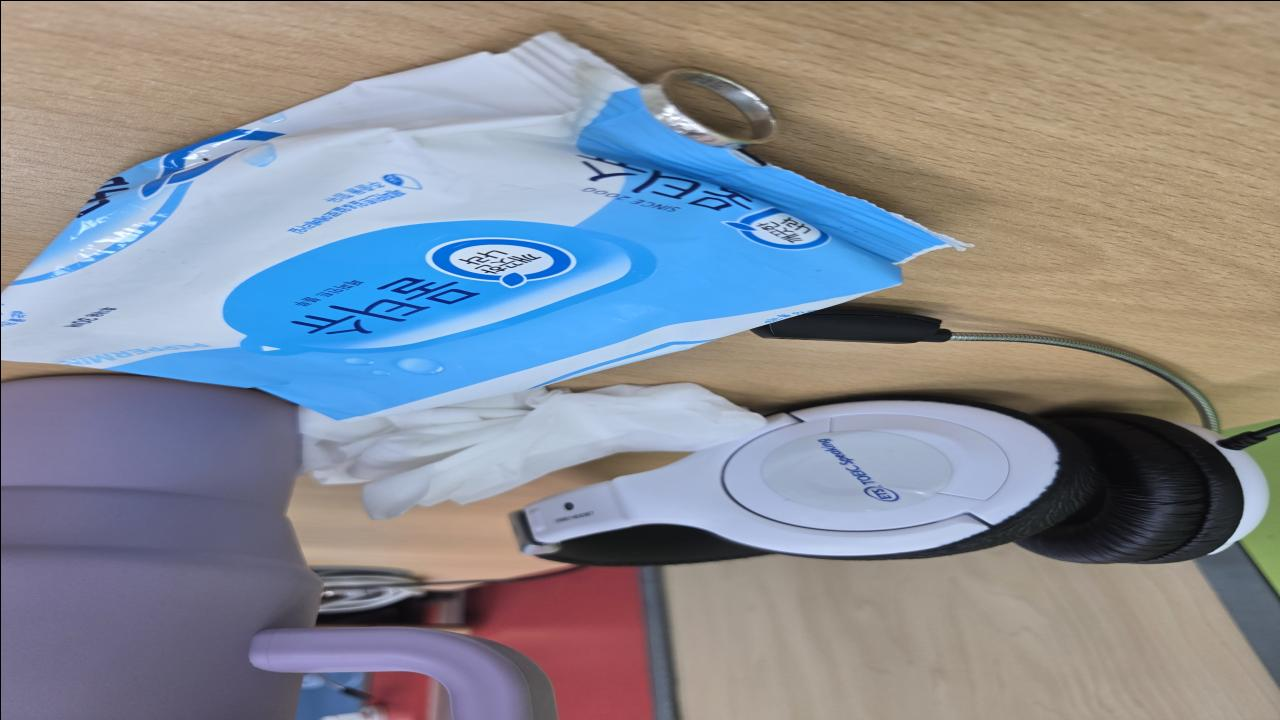ring: (638, 66, 776, 148)
